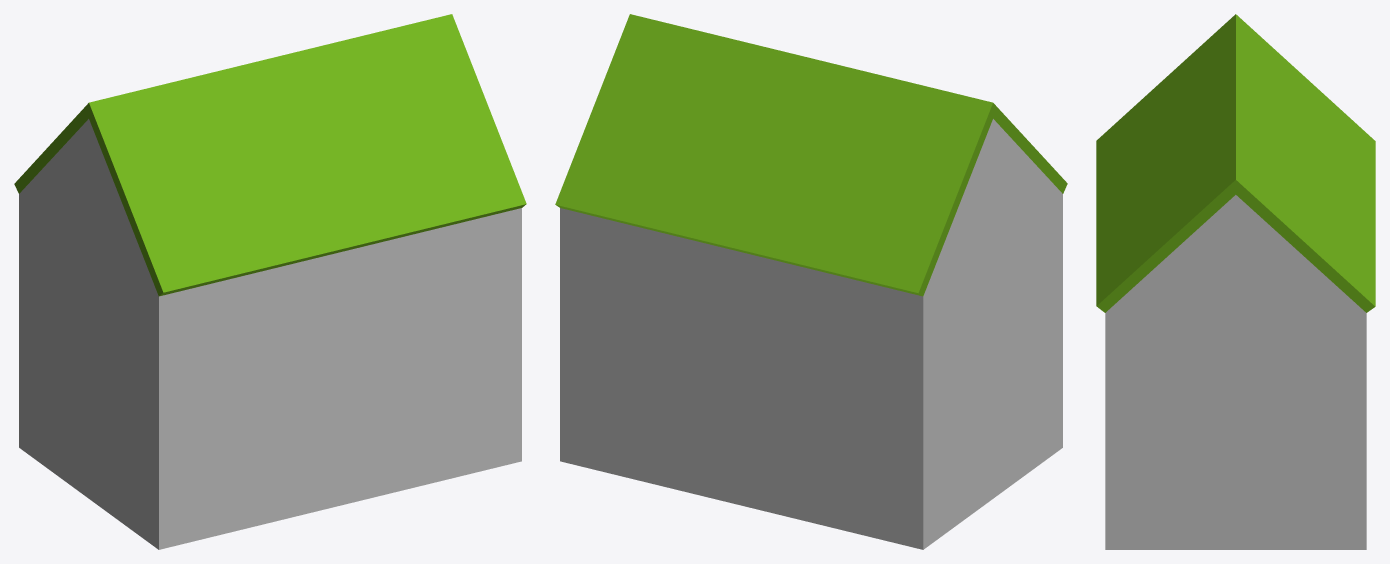
File: house_1.fbx
3 renders of one model, left to right at view 1: azimuth 30°, elevation 25°; view 2: azimuth 150°, elevation 25°; view 3: azimuth 270°, elevation 25°, orthographic. The views are drawn at different scales.
Visible parts, largest first — view 1: Cube.010; view 2: Cube.010; view 3: Cube.010.
Boxes of the visible parts, bbox=[...] form: Cube.010: bbox=[14, 14, 526, 549]; Cube.010: bbox=[555, 14, 1067, 549]; Cube.010: bbox=[1096, 14, 1375, 549].
Bounding box in the file's own units: 73.12 × 76.2 × 52.04.
